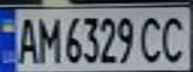2: (96, 12, 121, 64)
3: (81, 12, 103, 64)
6: (60, 12, 84, 64)
9: (115, 12, 139, 64)
A: (12, 13, 42, 64)
C: (157, 11, 190, 64), (136, 11, 166, 64)
M: (33, 12, 60, 64)
